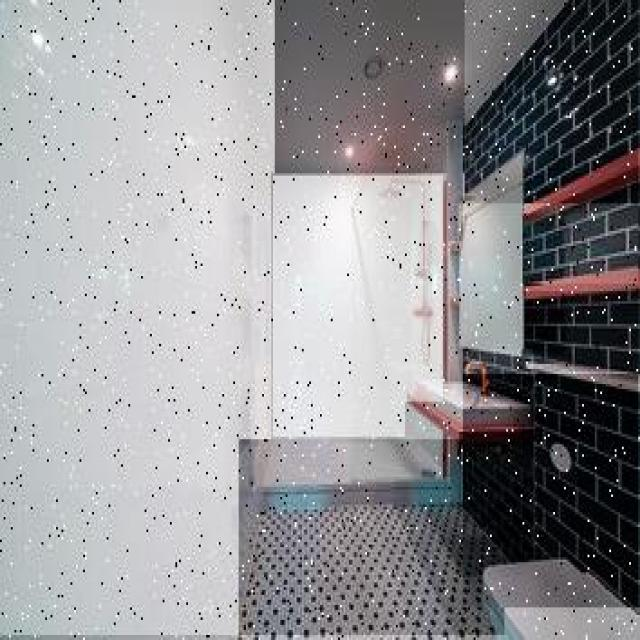Wall: (0, 1, 275, 635), (245, 2, 560, 173), (239, 440, 504, 635), (274, 177, 443, 437), (463, 376, 638, 607), (274, 174, 414, 439), (465, 0, 640, 203), (550, 379, 640, 607), (523, 182, 638, 284), (525, 292, 640, 371), (463, 350, 533, 404), (405, 404, 443, 477), (447, 120, 463, 241)
